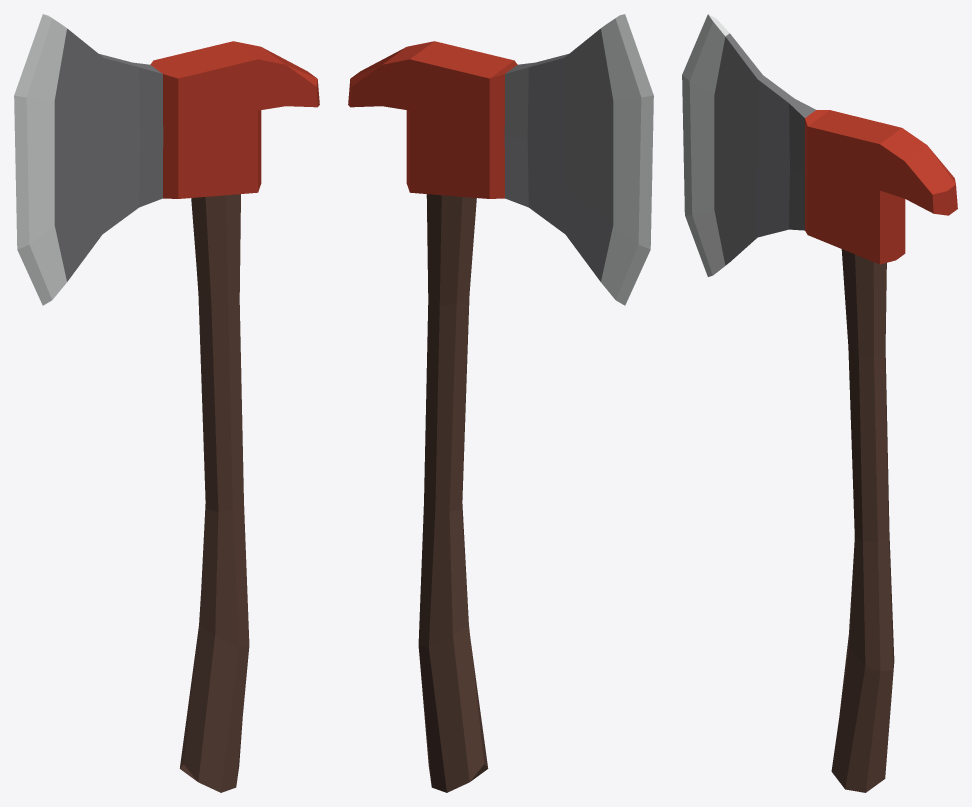
Rendered from riu.fbx.
3 renders of one model, left to right at view 1: azimuth 30°, elevation 25°; view 2: azimuth 150°, elevation 25°; view 3: azimuth 330°, elevation 25°, orthographic. The views are drawn at different scales.
Visible parts, largest first — view 1: Axe; view 2: Axe; view 3: Axe.
Part boxes in pixels (left/top/right/bottom): Axe: left=14, top=14, right=319, bottom=792; Axe: left=348, top=14, right=653, bottom=792; Axe: left=682, top=14, right=957, bottom=792.
Bounding box in the file's own units: 3.7 × 9.54 × 0.5575.
1 material, 1 textured.
